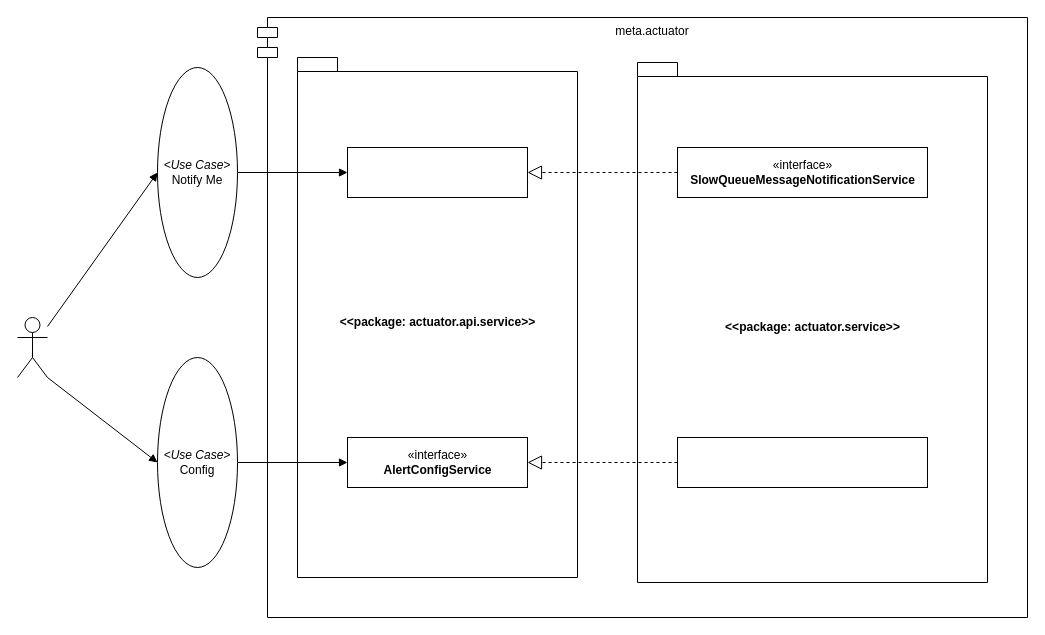
Some shapes in this 1045 by 635 pixel diagram are drawn without their labels. Here are the shapes that lost their labels. From the top down, the centre of each, then its label:
At point 437,172: "«interface» AlertNotificationService".
At point 32,347: "User".
At point 802,462: "«interface» SlowQueueMessageConfigService".
